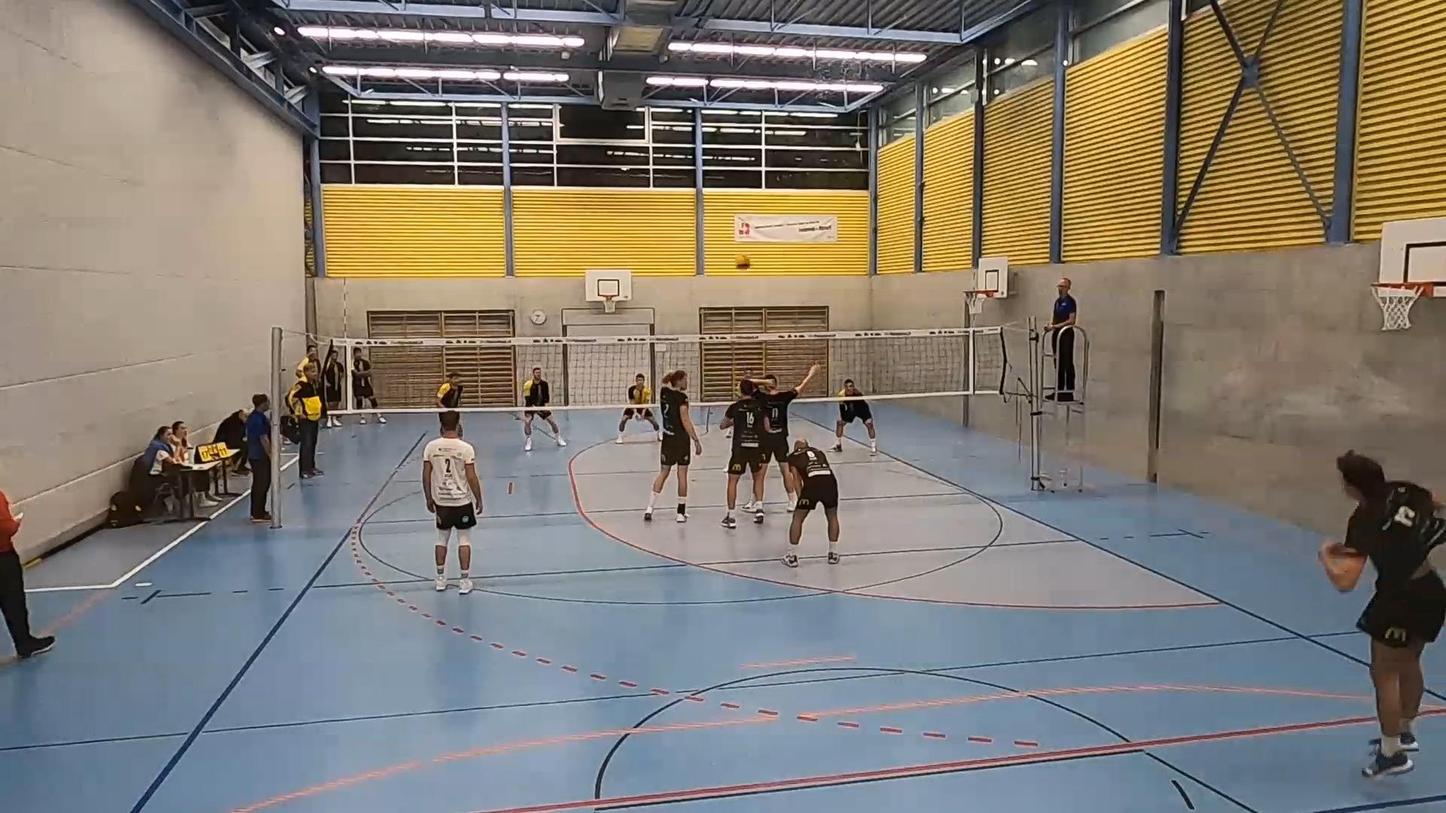battuta: (1321, 448, 1446, 778)
